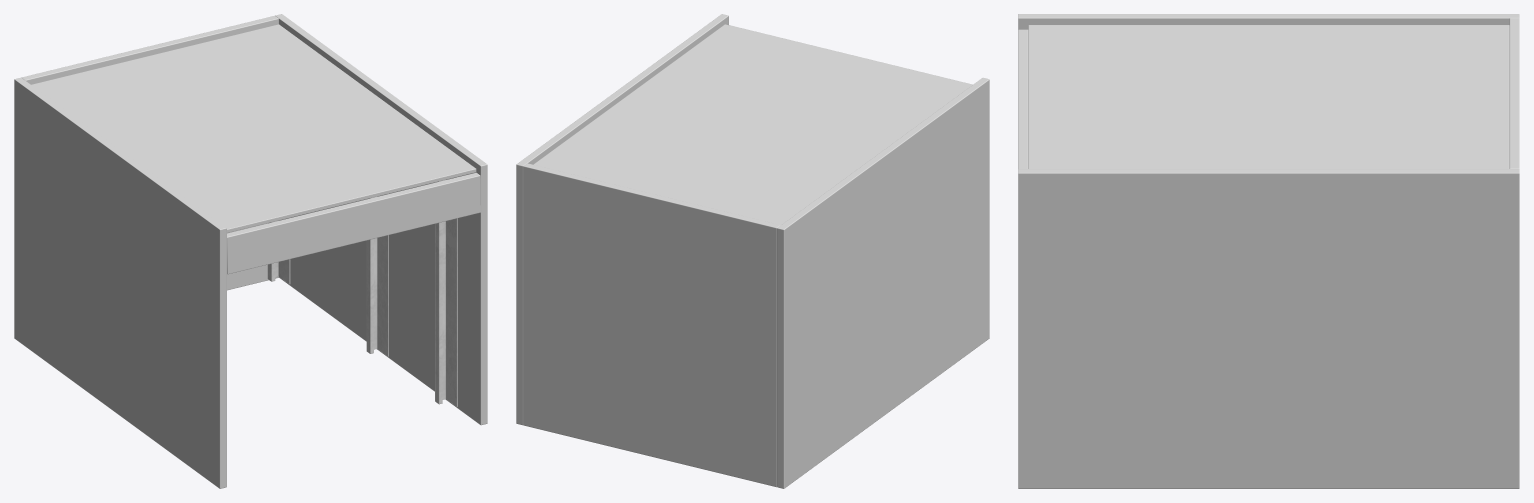
Rendered from SM_Kitchen_09_Base.obj.
3 renders of one model, left to right at view 1: azimuth 30°, elevation 25°; view 2: azimuth 150°, elevation 25°; view 3: azimuth 270°, elevation 25°, orthographic. The views are drawn at different scales.
Parts seen in each view (by area): view 1: SM_Kitchen_09_Base; view 2: SM_Kitchen_09_Base; view 3: SM_Kitchen_09_Base.
Part boxes in pixels (x1,y1,x2,y2): SM_Kitchen_09_Base: (14,14,487,488); SM_Kitchen_09_Base: (516,14,989,488); SM_Kitchen_09_Base: (1018,14,1519,488).
Size of the model in its own units: 0.5999 by 0.5549 by 0.798.
